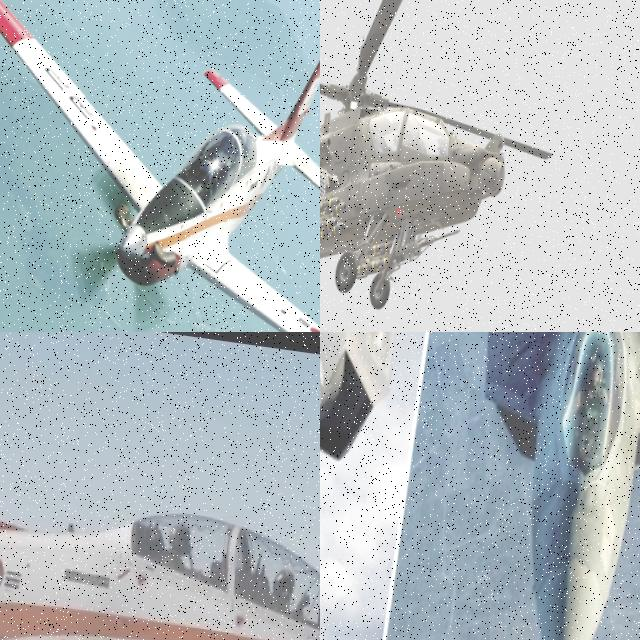Apache: (320, 0, 583, 332)
F22: (382, 332, 640, 640), (320, 332, 469, 610)
KT-1: (0, 0, 320, 332), (0, 453, 320, 640)
